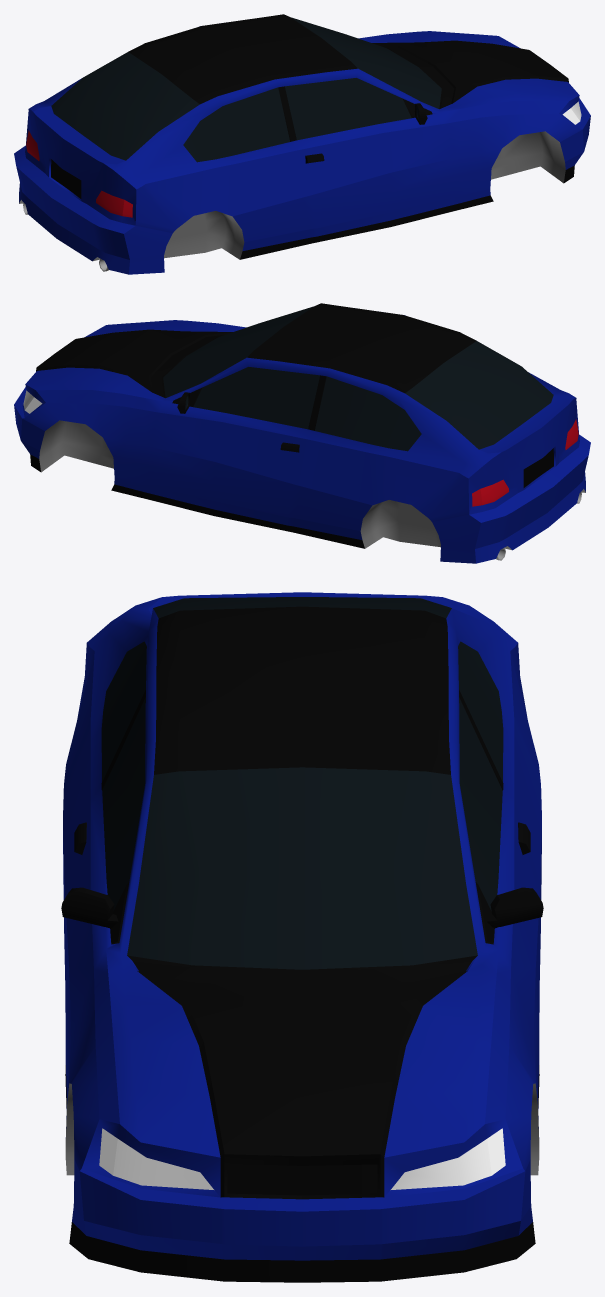
Rendered from S64Compact_Body_1.glb.
3 renders of one model, top to bottom at view 1: azimuth 30°, elevation 25°; view 2: azimuth 150°, elevation 25°; view 3: azimuth 270°, elevation 25°, orthographic. The views are drawn at different scales.
Parts seen in each view (by area): view 1: Cube; view 2: Cube; view 3: Cube.
Part boxes in pixels (left/top/right/bottom): Cube: left=14, top=14, right=590, bottom=274; Cube: left=14, top=303, right=590, bottom=563; Cube: left=61, top=592, right=543, bottom=1282.
Size of the model in its own units: 3.28 by 0.968 by 1.34.
